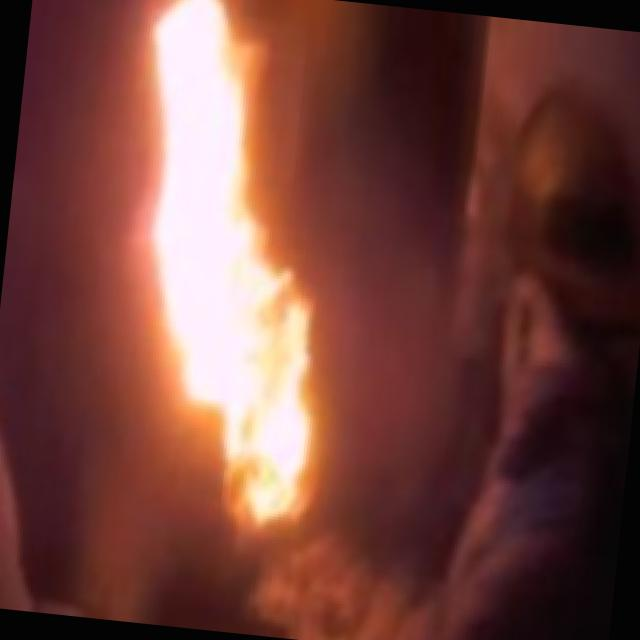fire: (109, 0, 358, 535)
